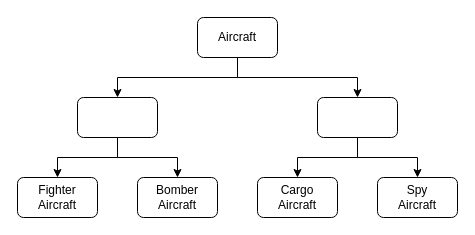
The diagram is 475 pixels wide and 235 high, and some of its shapes have lost their labels. Each missing label, with the centre of its shape:
"Combat Aircraft" goes at (x=117, y=117).
"NonCombat Aircraft" goes at (x=357, y=117).
